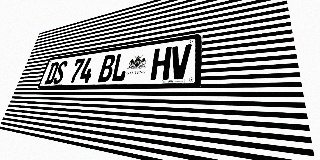4: (78, 57, 96, 83)
7: (68, 58, 85, 83)
B: (97, 54, 116, 82)
D: (44, 62, 60, 84)
H: (150, 47, 172, 80)
L: (110, 52, 130, 82)
S: (52, 61, 68, 84)
V: (169, 44, 192, 80)
